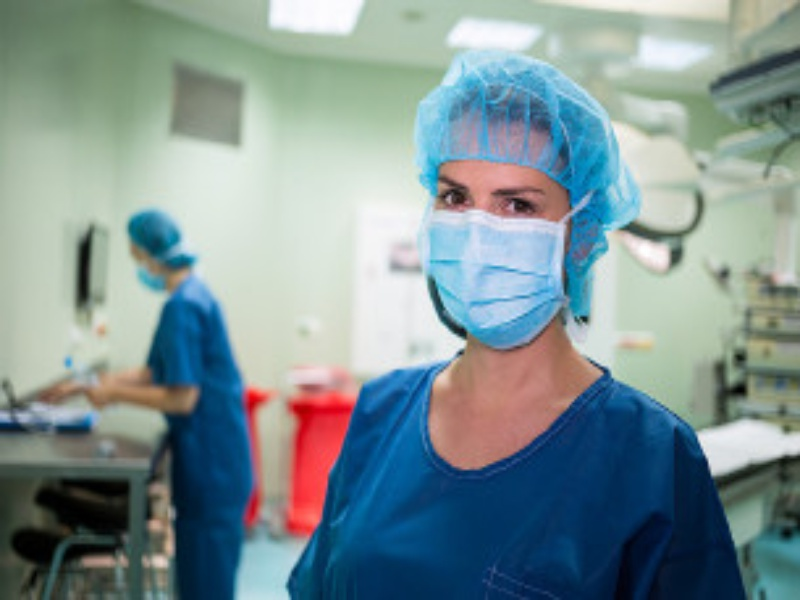mask: (420, 53, 616, 355), (122, 207, 204, 302)
